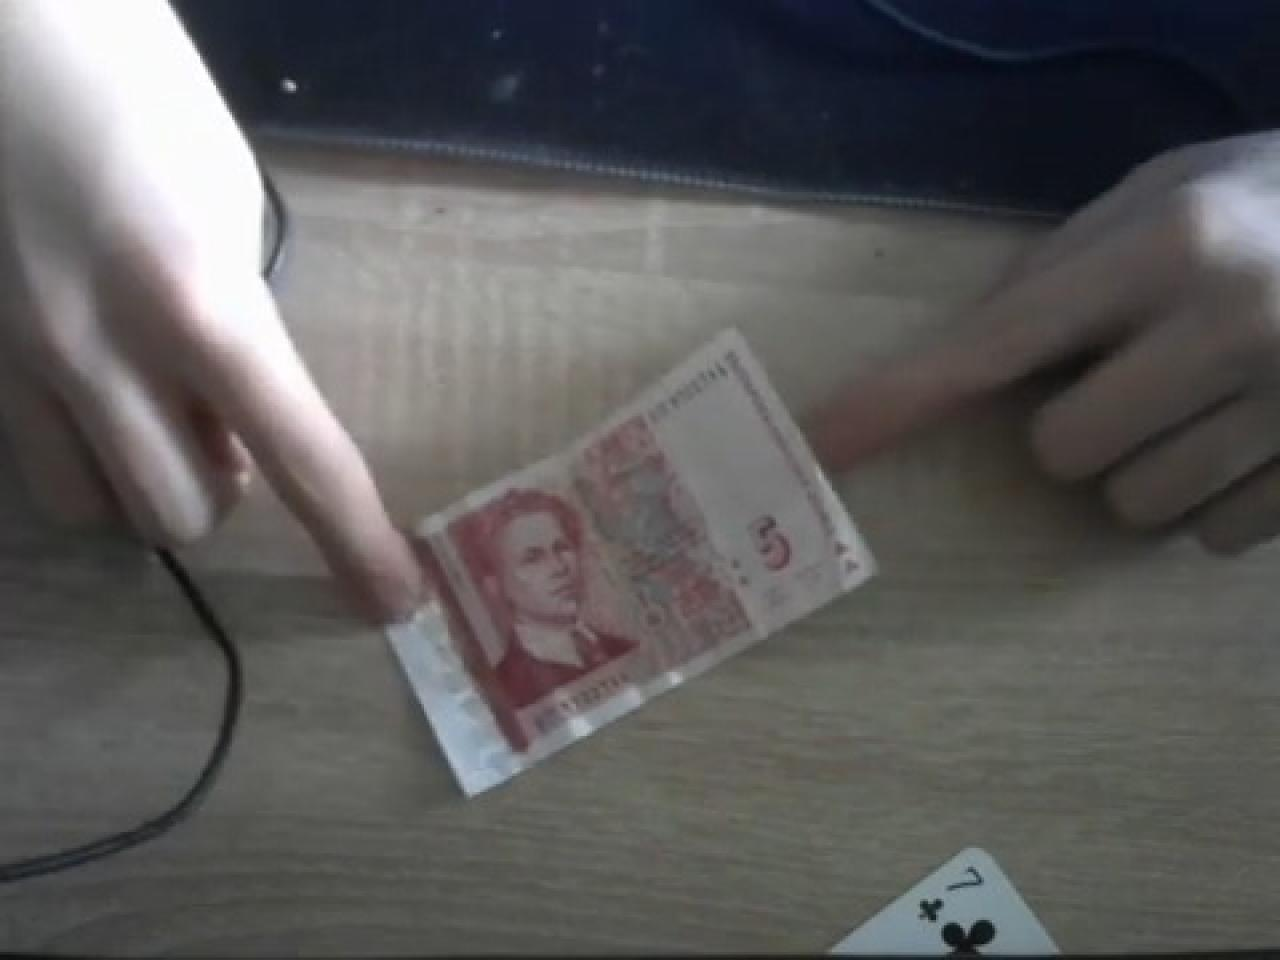5leva: (384, 328, 880, 800)
